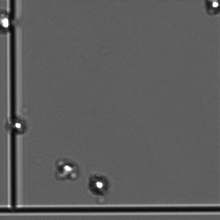Living Cell: (8, 112, 30, 135), (53, 157, 74, 181), (87, 170, 106, 195), (204, 1, 220, 19)
